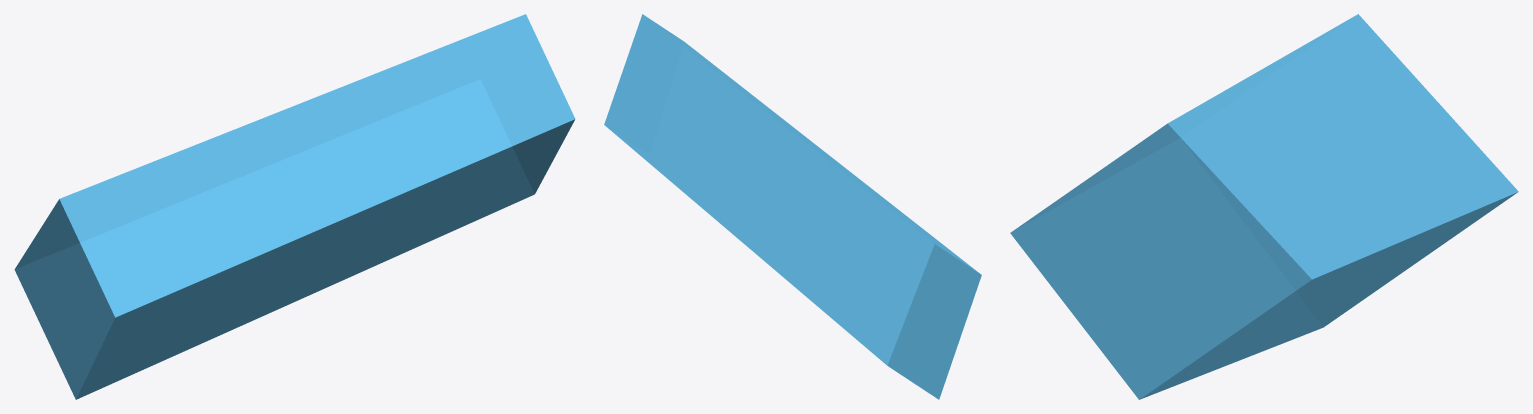
The model's file is Event_420107950_HErechit_0.fbx.
3 views of the same model, side by side, from view 1: azimuth 30°, elevation 25°; view 2: azimuth 150°, elevation 25°; view 3: azimuth 270°, elevation 25° (orthographic). The views are drawn at different scales.
Parts seen in each view (by area): view 1: Model; view 2: Model; view 3: Model.
Boxes of the visible parts, x1=… form: Model: x1=14, y1=14, x2=575, y2=399; Model: x1=604, y1=14, x2=981, y2=399; Model: x1=1010, y1=14, x2=1518, y2=399.
Bounding box in the file's own units: 1.33 × 1.01 × 0.9041.
